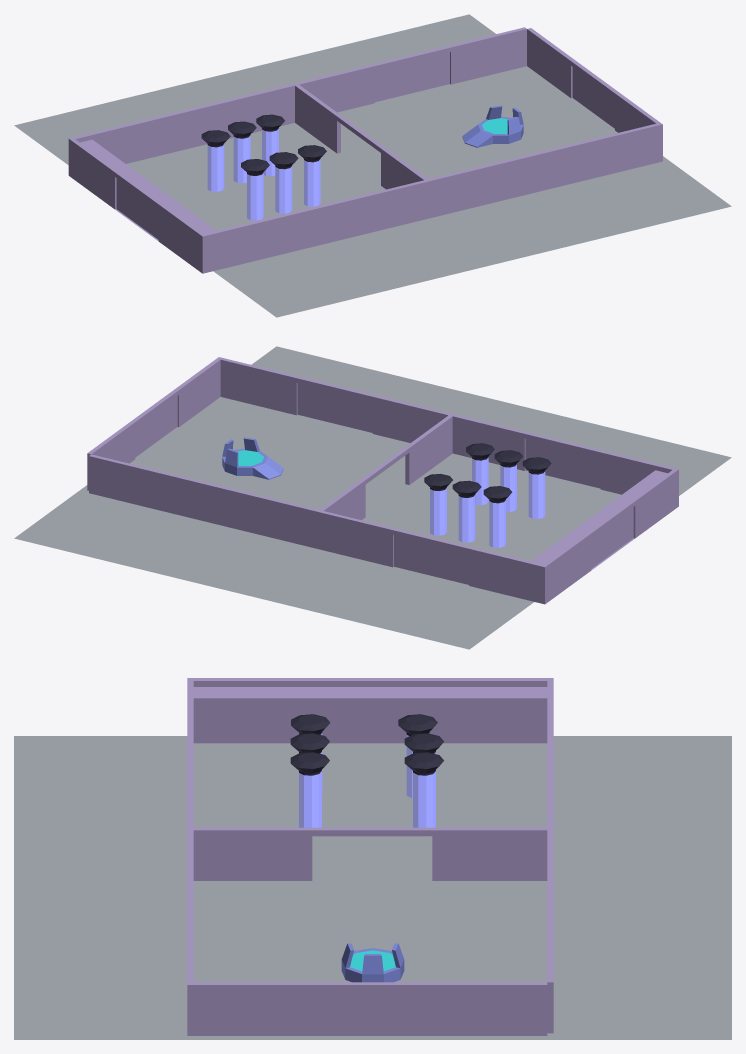
Rendered from cloning.glb.
3 views of the same model, one above another, from view 1: azimuth 30°, elevation 25°; view 2: azimuth 150°, elevation 25°; view 3: azimuth 270°, elevation 25° (orthographic). The views are drawn at different scales.
Visible parts, largest first — view 1: Ground, Ground.002, Ground.001, Ground.003, Wall.003, Wall.004, Wall, Wall.006, Wall.005, Wall.002, Wall.001, VortexGate (+6 smaller); view 2: Ground.001, Ground.003, Ground, Ground.002, Wall.005, Wall, Wall.003, Wall.006, Wall.004, Wall.002, Wall.001, VortexGate (+6 smaller); view 3: Ground.003, Ground.002, Ground.001, Ground, Wall.006, Wall.002, Wall.001, VortexGate, VortexNode1, VortexNode4, Wall, Wall.003 (+6 smaller).
Part boxes in pixels (x1,y1,x2,y2): Ground: (373,112,731,261); Ground.002: (190,166,503,317); Ground.001: (242,14,591,165); Ground.003: (14,70,371,210); Wall.003: (428,123,658,217); Wall.004: (201,179,430,268); Wall: (297,27,526,112); Wall.006: (71,139,223,273); Wall.005: (68,83,296,176); Wall.002: (527,28,662,162); Wall.001: (293,83,427,189); VortexGate: (462,105,523,147); Ground.001: (14,444,372,593); Ground.003: (242,498,555,649); Ground: (154,346,503,497); Ground.002: (374,402,731,542); Wall.005: (317,511,547,604); Wall: (89,454,318,548); Wall.003: (220,358,450,442); Wall.006: (531,468,678,602); Wall.004: (449,413,678,494); Wall.002: (87,357,222,490); Wall.001: (318,415,452,519); VortexGate: (222,437,283,479); Ground.003: (373,736,731,887); Ground.002: (14,736,372,887); Ground.001: (373,888,731,1039); Ground: (14,888,372,1039); Wall.006: (187,678,547,743); Wall.002: (187,982,547,1035); Wall.001: (192,827,552,880); VortexGate: (341,943,404,982); VortexNode1: (404,752,443,836); VortexNode4: (290,752,329,836); Wall: (547,830,553,1033); Wall.003: (187,830,193,982).
Size of the model in its own units: 32.78 by 3.63 by 32.
